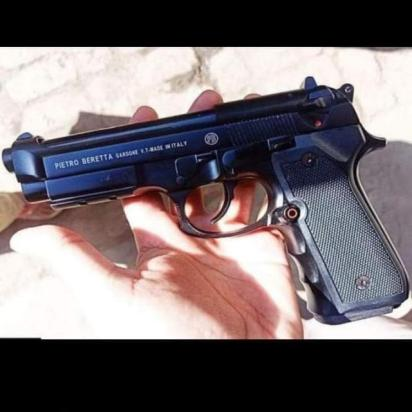Gun: (0, 72, 412, 327)
